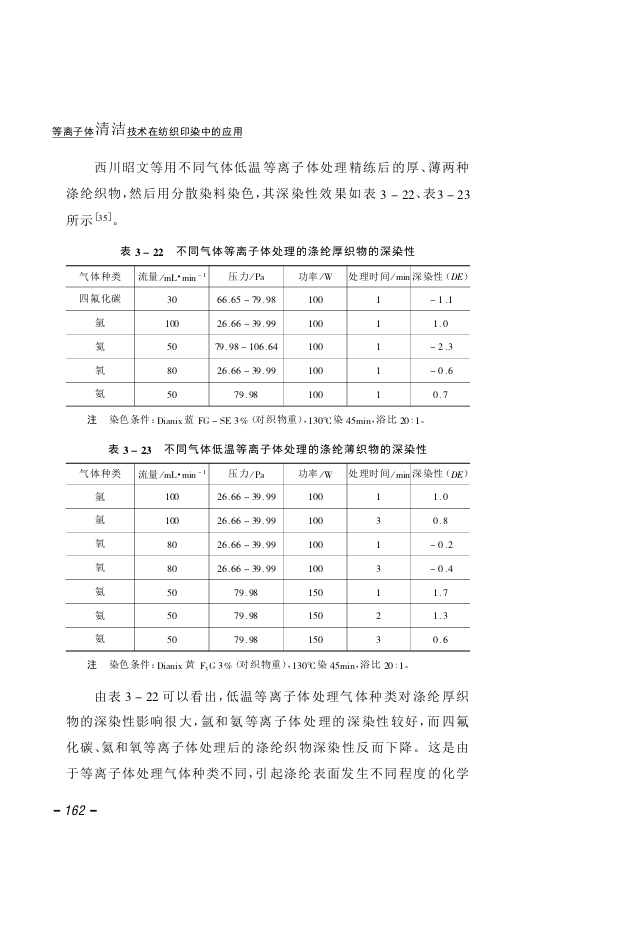table: (65, 462, 470, 652), (65, 265, 470, 407)
